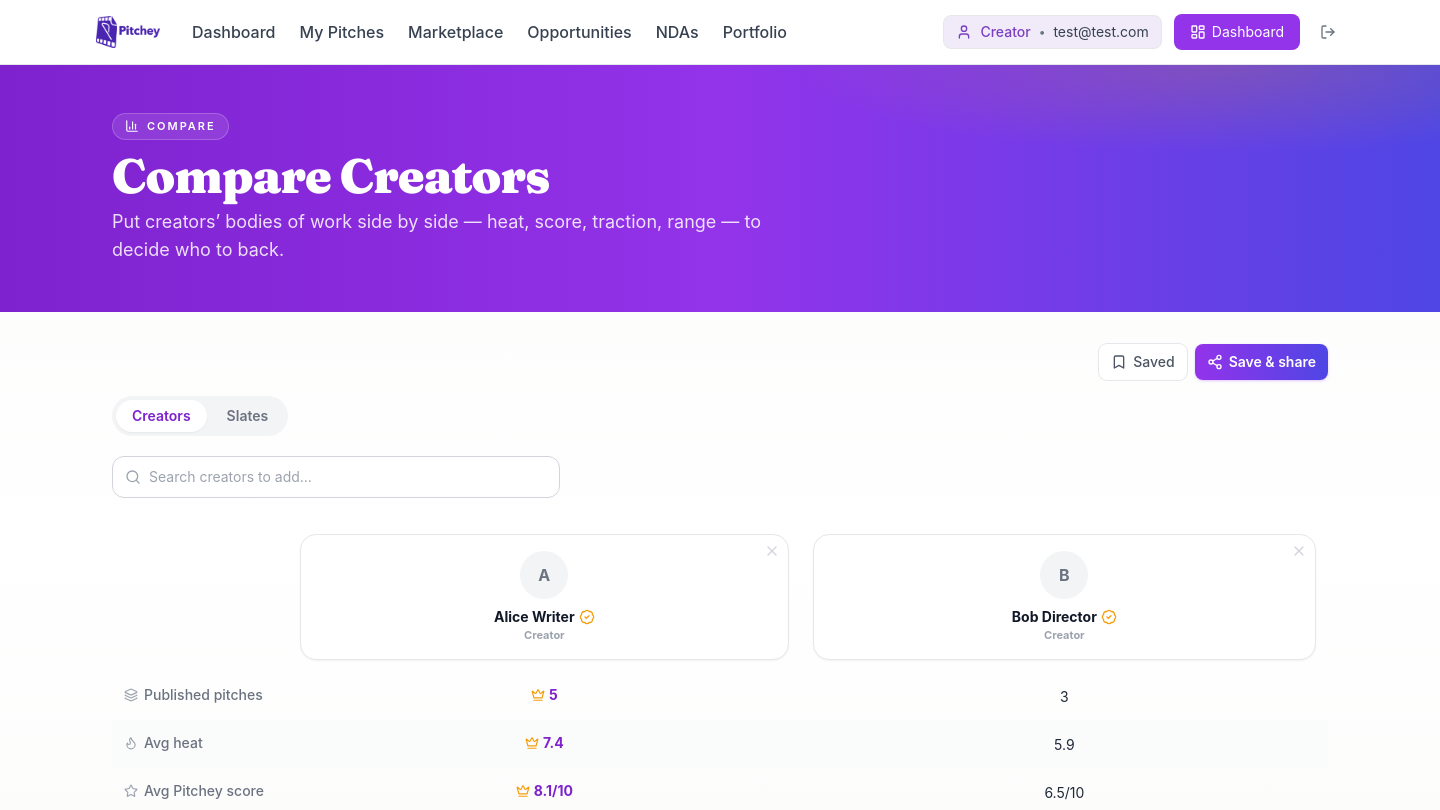
Scenario: ComparePage › save modal › shows share link after successful save
The width and height of the screenshot is (1440, 810).
Click the button "Save & share" at (1261, 362), box 1195,344 -> 1328,380
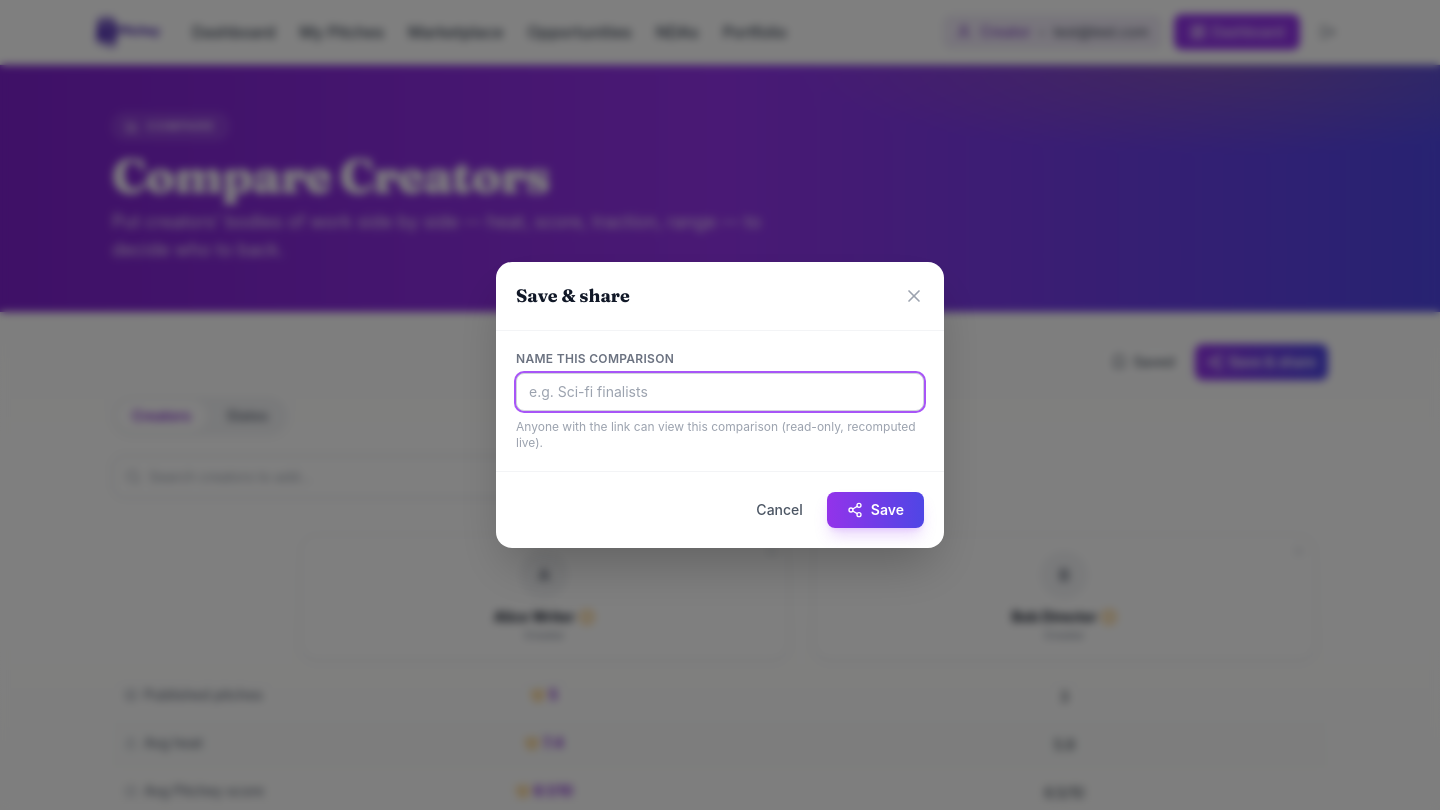
Expected: the field with placeholder "e.g. Sci-fi finalists" is shown, 516,373 -> 924,411
Click the Save button
Click the button "Save" at (875, 510), box 827,492 -> 924,528
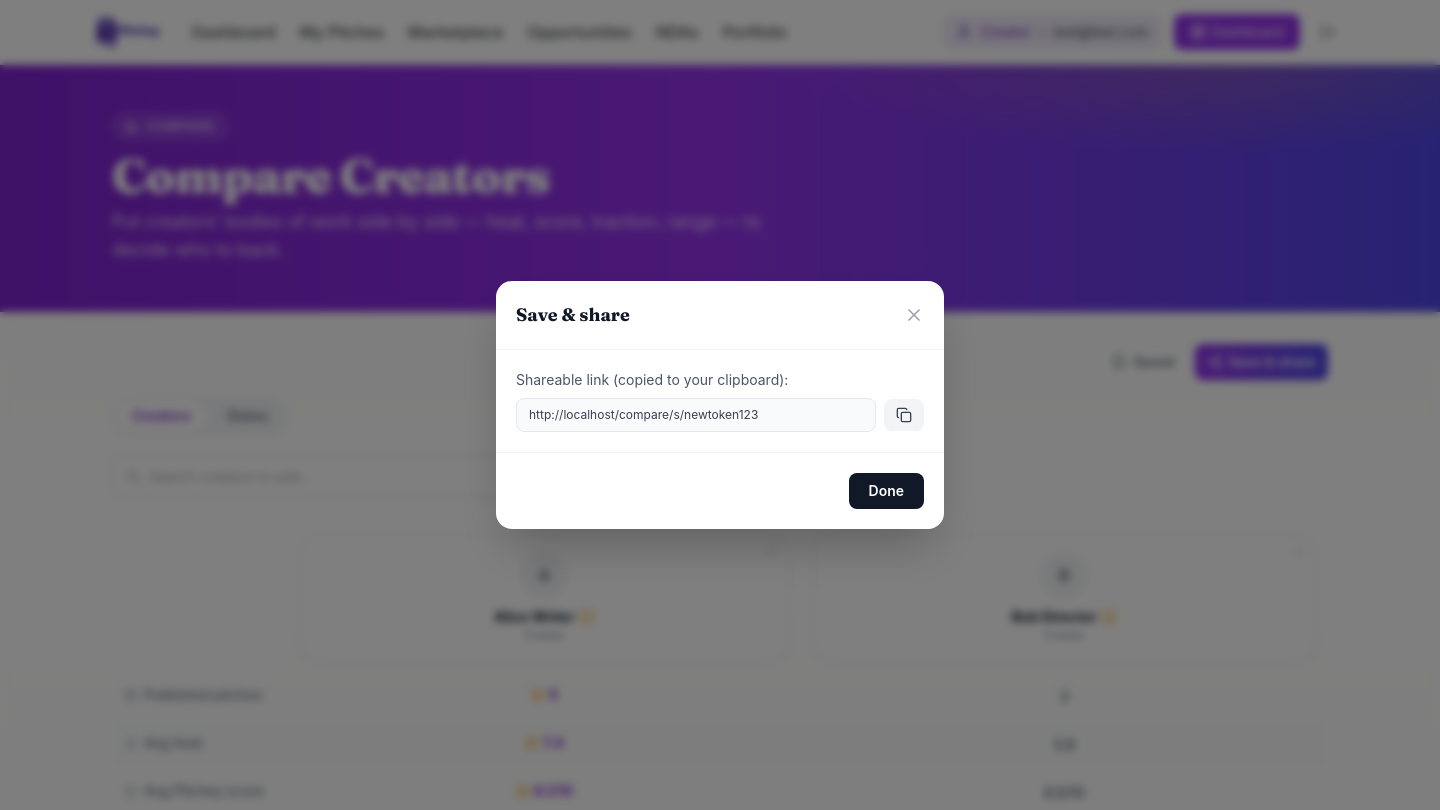
Expected: the text "Shareable link (copied to your clipboard):" is shown, 516,371 -> 788,388
